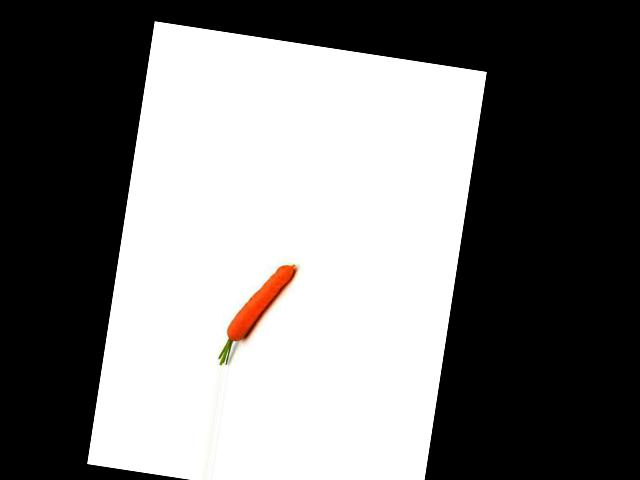carrot: (225, 253, 295, 351)
